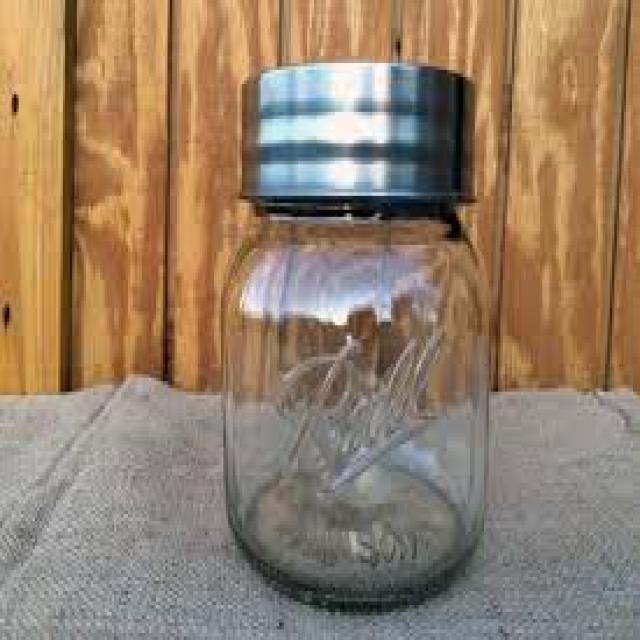glass: (219, 196, 482, 605)
metal: (237, 56, 475, 199)
